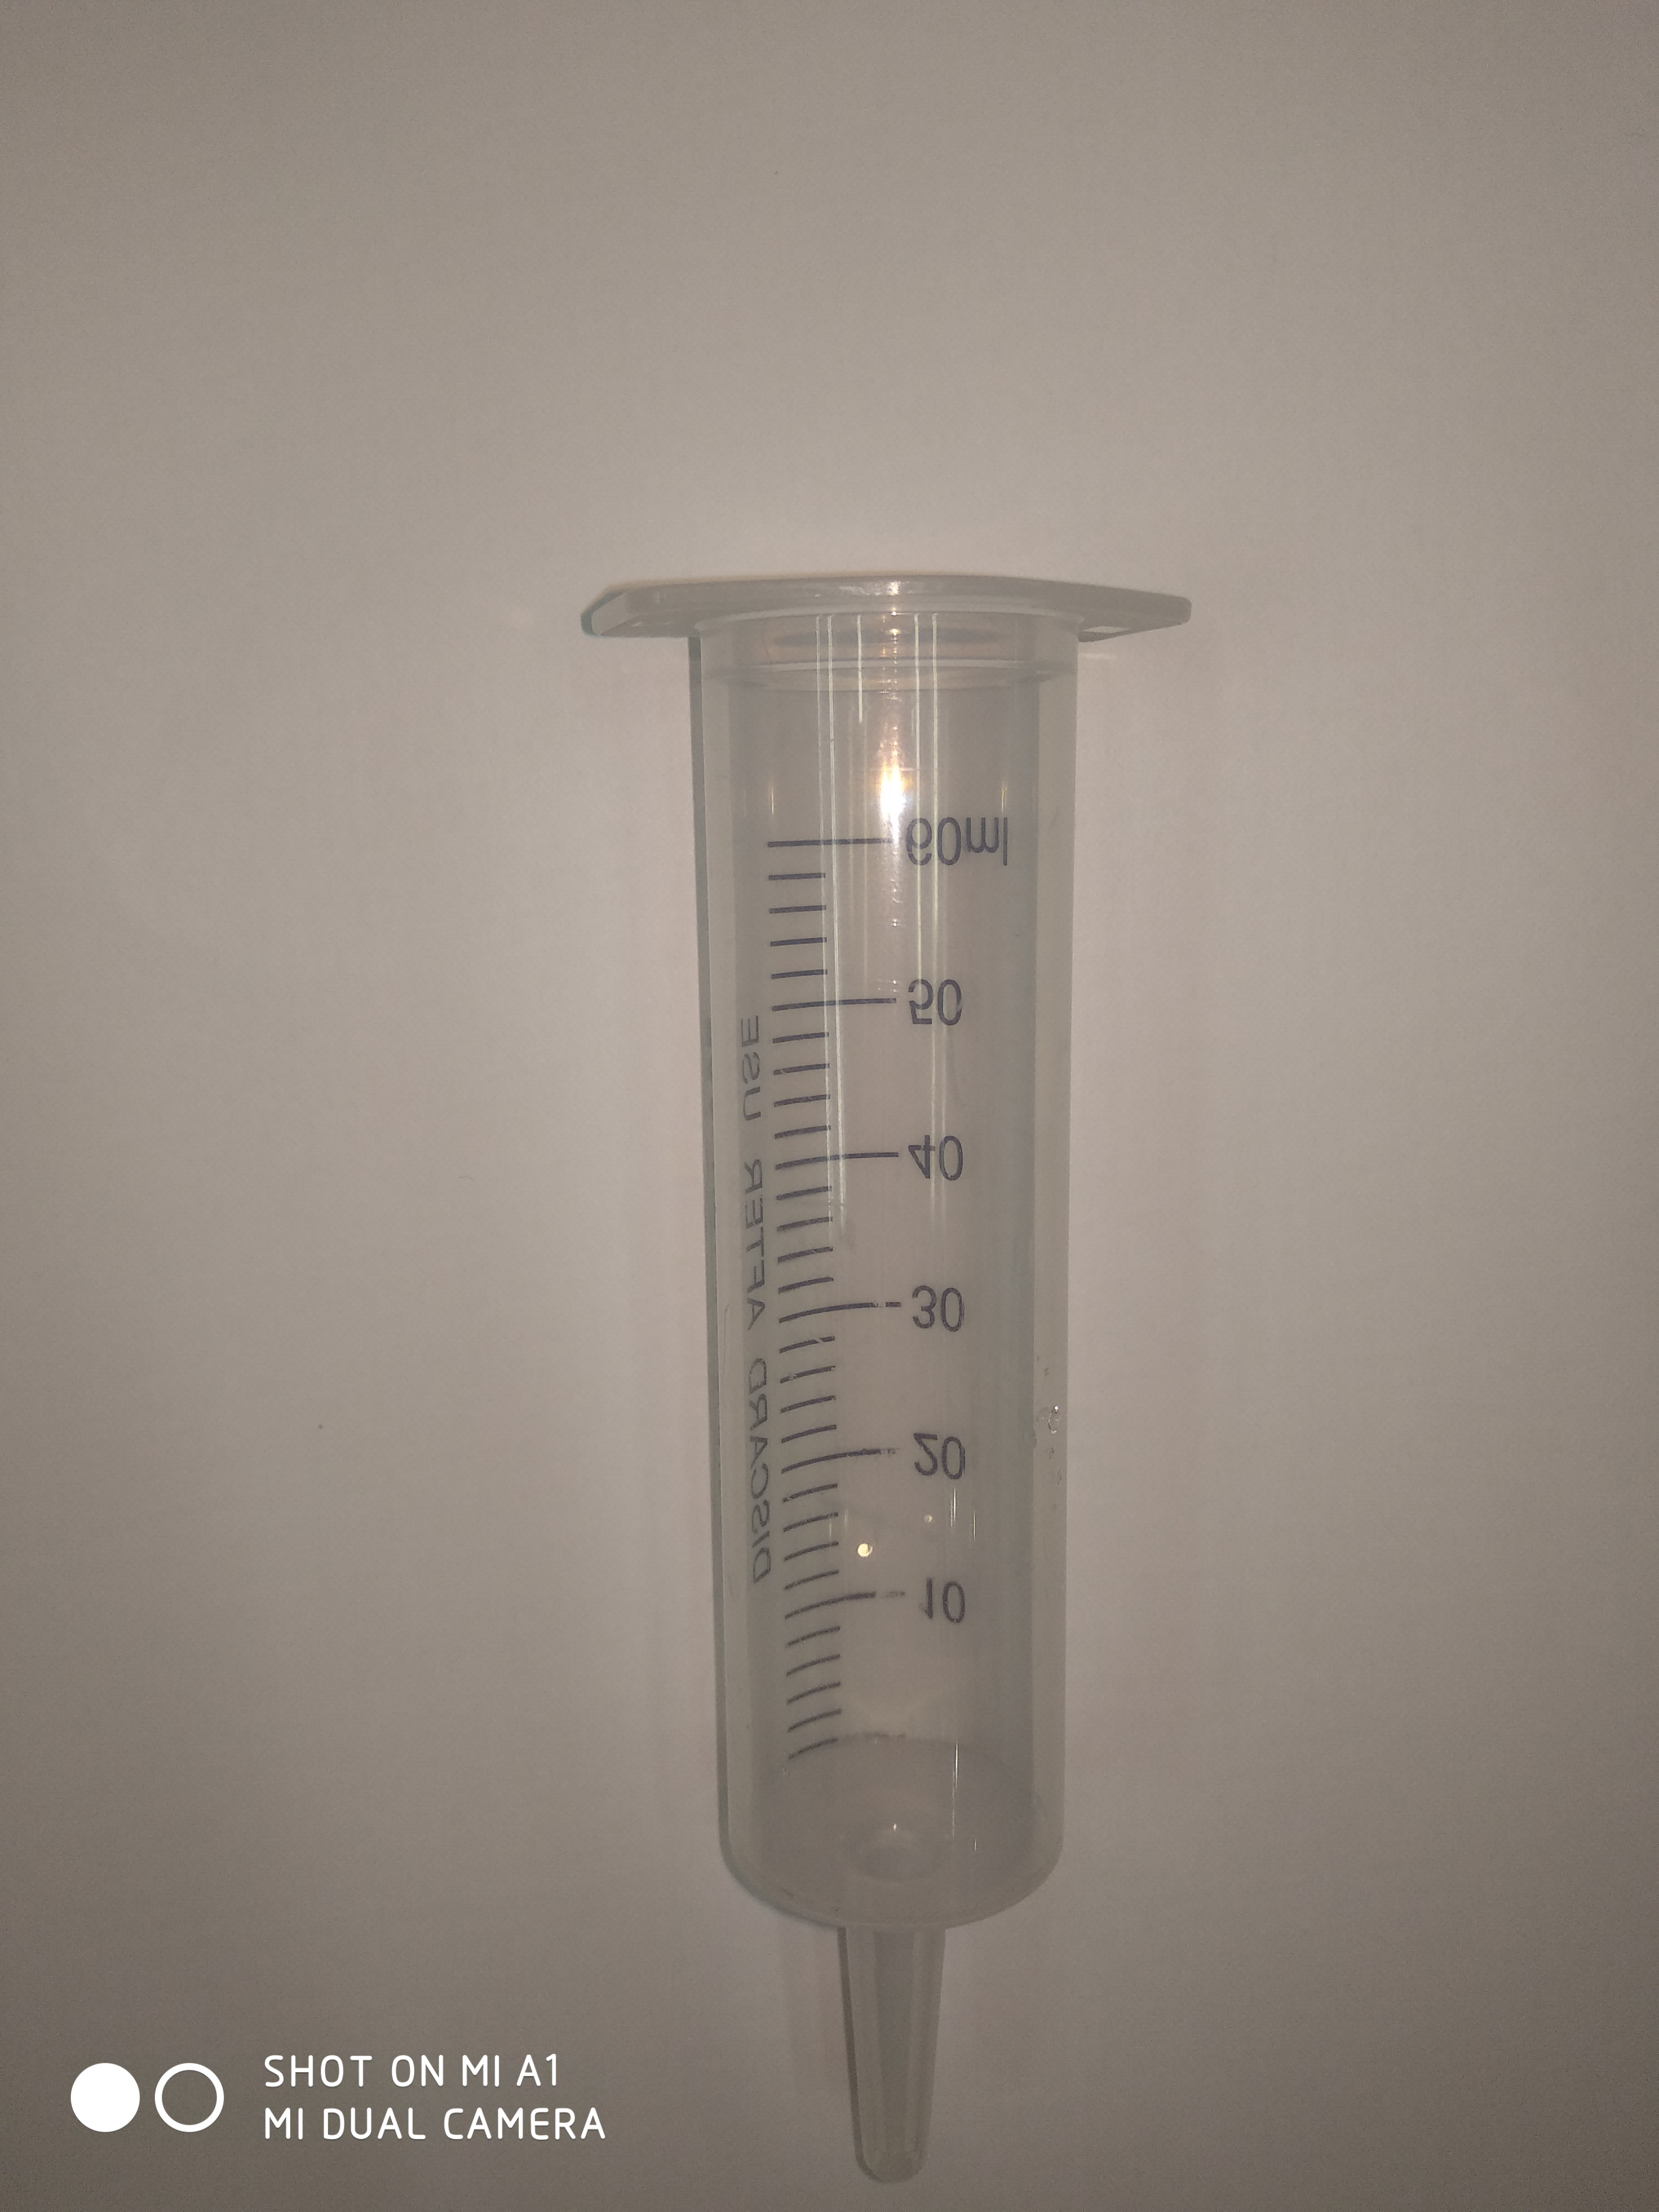syringe: (572, 552, 1209, 2189)
